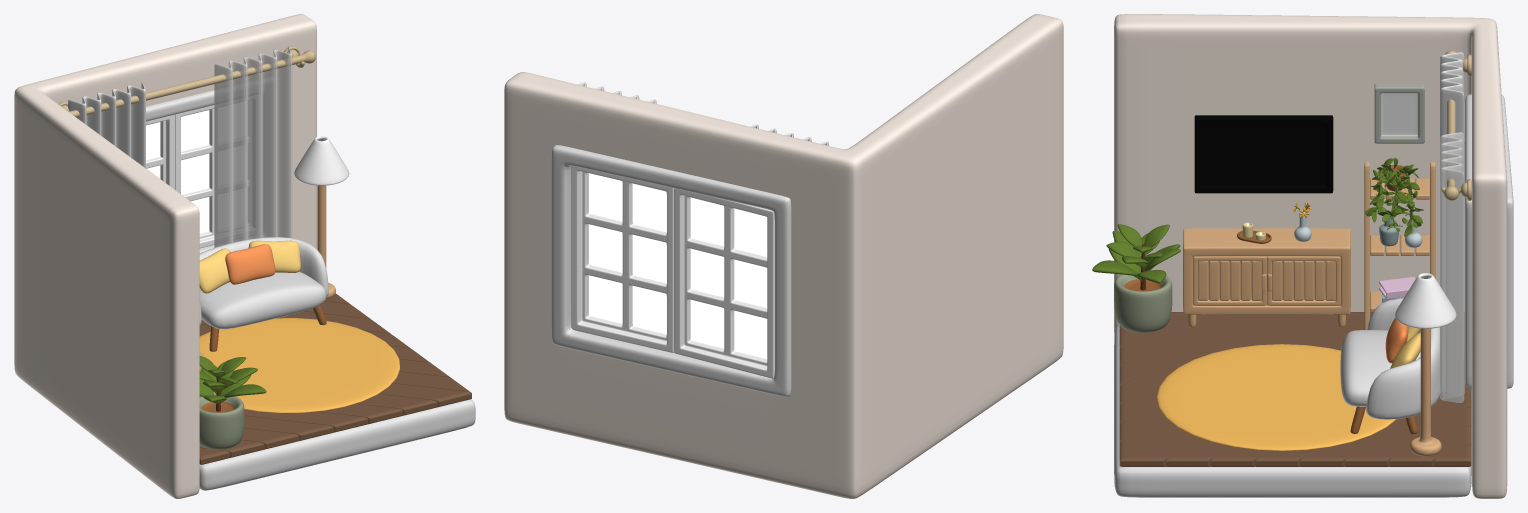
The model's file is isometricRoom_color.glb.
3 views of the same model, side by side, from view 1: azimuth 30°, elevation 25°; view 2: azimuth 150°, elevation 25°; view 3: azimuth 270°, elevation 25° (orthographic). The views are drawn at different scales.
Parts seen in each view (by area): view 1: wall, curtain, rug, wall.002, diagonal floor, floor, sofa, Plane, window, plant, Circle.002, Cylinder (+5 smaller); view 2: wall, wall.002, window; view 3: wall, diagonal floor, rug, floor, tv, drawer, curtain, wall.004, floor.001, window, wall.003, small picture (+12 smaller).
Part boxes in pixels (x1,y1,x2,y2): wall: (14,14,316,498); curtain: (214,46,292,247); rug: (199,318,399,413); wall.002: (146,95,257,248); diagonal floor: (199,293,471,464); floor: (199,399,475,490); sofa: (199,271,326,329); Plane: (68,82,145,168); window: (146,77,272,252); plant: (199,393,244,449); Circle.002: (294,136,349,185); Cylinder: (69,50,315,117); wall: (504,14,1063,498); wall.002: (571,166,774,378); window: (551,145,791,396); wall: (1114,14,1507,498); diagonal floor: (1119,312,1471,466); rug: (1156,344,1396,450); floor: (1114,324,1471,497); tv: (1194,115,1333,193); drawer: (1183,228,1350,314); curtain: (1440,132,1464,402); wall.004: (1198,261,1335,300); floor.001: (1366,298,1440,419); window: (1465,94,1513,388); wall.003: (1193,256,1340,305); small picture: (1374,83,1424,143).
Bounding box in the file's own units: 5.03 × 4.5 × 5.3.
